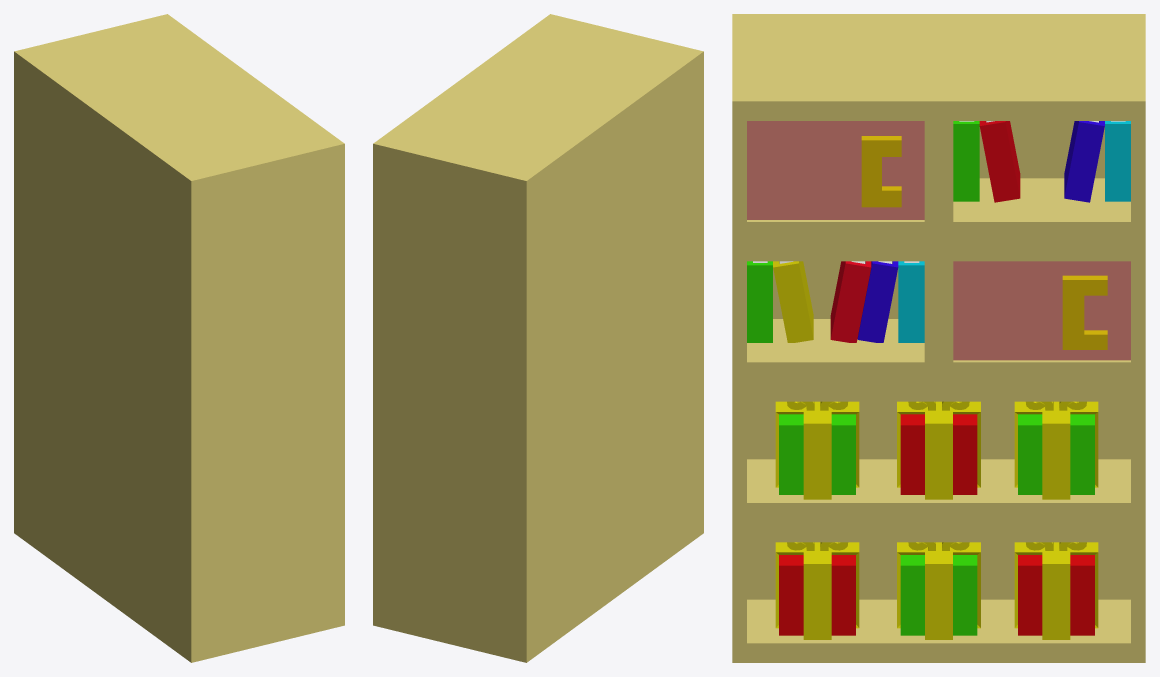
The model's file is shkaf.fbx.
3 views of the same model, side by side, from view 1: azimuth 30°, elevation 25°; view 2: azimuth 150°, elevation 25°; view 3: azimuth 270°, elevation 25° (orthographic). The views are drawn at different scales.
Visible parts, largest first — view 1: Cube, Cube.003; view 2: Cube, Cube.003; view 3: Cube, Cube.003, Cube.007, Cube.001.
Boxes of the visible parts, x1,y1,x2,y2 form: Cube: (14,79,344,662); Cube.003: (14,14,255,236); Cube: (373,14,703,662); Cube.003: (373,79,615,301); Cube: (732,14,1145,662); Cube.003: (939,14,1145,241); Cube.007: (747,261,924,342); Cube.001: (953,121,1130,202).
Bounding box in the file's own units: 205 × 600 × 400.
